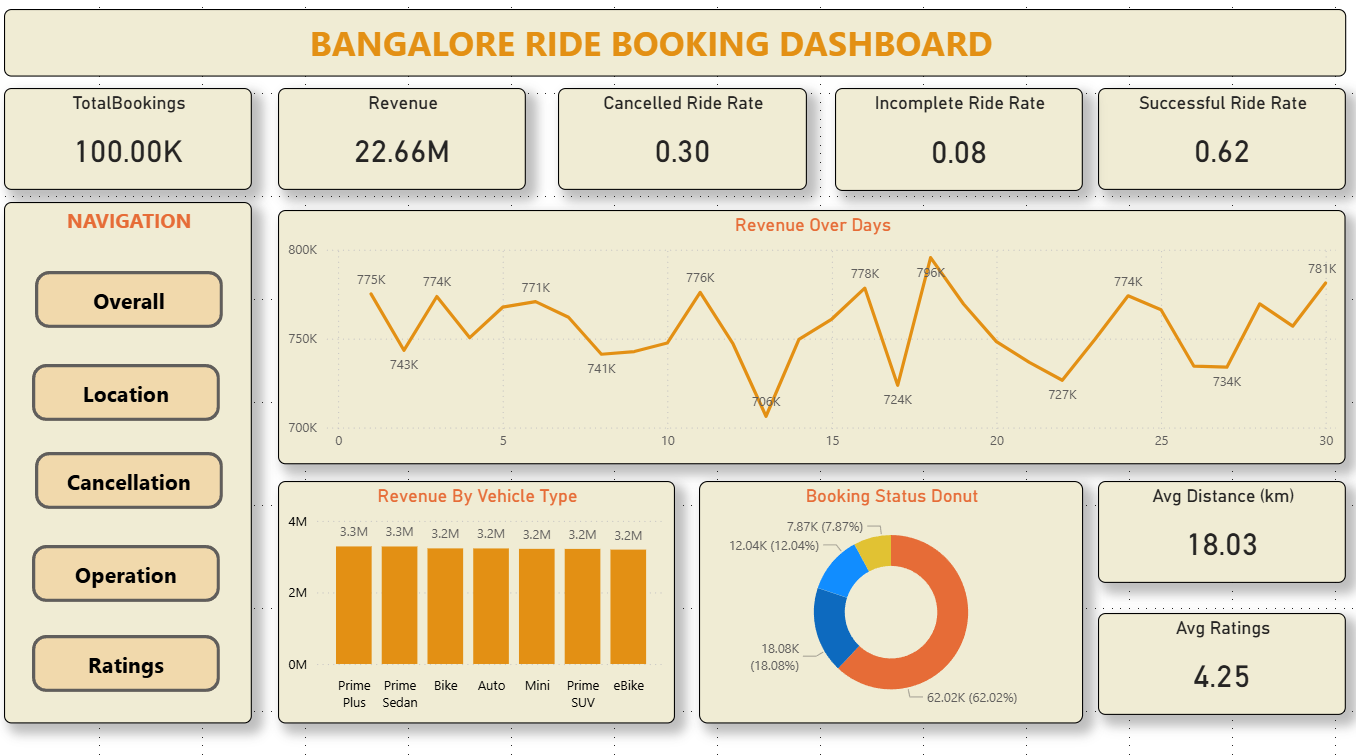

This screenshot's page, from the dashboard's own definition file:
{"tool":"powerbi","page":{"name":"Overall","canvas":[1280,720],"ordinal":0},"visuals":[{"type":"card","title":"Revenue","fields":{"Values":["Sum(Bangalore_Ride_Bookings.Booking Value)"]},"box":[262.8,91.3,231.1,95.1],"z":0},{"type":"card","title":"TotalBookings","fields":{"Values":["Count(Bangalore_Ride_Bookings.Booking ID)"]},"box":[7.5,91.3,231.1,95.1],"z":1000},{"type":"card","title":"Successful Ride Rate","fields":{"Values":["Bangalore_Ride_Bookings.Success Rate %"]},"box":[1027.1,91.3,231.1,95.1],"z":2000},{"type":"card","title":"Incomplete Ride Rate","fields":{"Values":["Bangalore_Ride_Bookings.Incomplete Rate %"]},"box":[782,91.3,231.1,96],"z":3000},{"type":"card","title":"Cancelled Ride Rate","fields":{"Values":["Bangalore_Ride_Bookings.Cancellation Rate %"]},"box":[523.8,91.3,232.1,95.1],"z":4000},{"type":"textbox","box":[7.5,17.7,1250.8,63.4],"z":5000},{"type":"textbox","title":"NAVIGATION","box":[7.5,197.6,231.1,485.6],"z":6000},{"type":"lineChart","title":"Revenue Over Days","fields":{"Y":["Sum(Bangalore_Ride_Bookings.Booking Value)"],"Category":["Bangalore_Ride_Bookings.Date.Variation.Date Hierarchy.Day"]},"box":[262.8,205,995.4,236.7],"z":7000},{"type":"columnChart","title":"Revenue By Vehicle Type","fields":{"Y":["Sum(Bangalore_Ride_Bookings.Booking Value)"],"Category":["Bangalore_Ride_Bookings.Vehicle Type"]},"box":[262.8,457.6,370,225.6],"z":8000},{"type":"donutChart","title":"Booking Status Donut","fields":{"Category":["Bangalore_Ride_Bookings.Booking Status"],"Y":["CountNonNull(Bangalore_Ride_Bookings.Booking ID)"]},"box":[655.2,457.6,357.9,225.6],"z":9000},{"type":"card","title":"Avg Distance (km)","fields":{"Values":["Avg(Bangalore_Ride_Bookings.Ride Distance (km))"]},"box":[1027.1,457.6,231.1,95.1],"z":10000},{"type":"card","title":"Avg Ratings","fields":{"Values":["Avg(Bangalore_Ride_Bookings.Customer Rating)"]},"box":[1027.1,580.7,231.1,95.1],"z":11000},{"type":"actionButton","box":[33.6,348.6,175.2,53.1],"z":12000},{"type":"actionButton","box":[36.3,430.6,175.2,53.1],"z":12001},{"type":"actionButton","box":[33.6,517.3,175.2,53.1],"z":12002},{"type":"actionButton","box":[33.6,601.2,175.2,53.1],"z":12003},{"type":"actionButton","box":[36.3,261.9,175.2,53.1],"z":12004}]}

Visuals, with their boxes in screenshot pixels (x1, y1, x2, y2), scaled from the page's 1280x720 canvas onto the 1356x756 screenshot:
"Revenue" card: 278/96/523/196
"TotalBookings" card: 8/96/253/196
"Successful Ride Rate" card: 1088/96/1333/196
"Incomplete Ride Rate" card: 828/96/1073/197
"Cancelled Ride Rate" card: 555/96/801/196
textbox: 8/19/1333/85
"NAVIGATION" textbox: 8/207/253/717
"Revenue Over Days" lineChart: 278/215/1333/464
"Revenue By Vehicle Type" columnChart: 278/480/670/717
"Booking Status Donut" donutChart: 694/480/1073/717
"Avg Distance (km)" card: 1088/480/1333/580
"Avg Ratings" card: 1088/610/1333/710
actionButton: 36/366/221/422
actionButton: 38/452/224/508
actionButton: 36/543/221/599
actionButton: 36/631/221/687
actionButton: 38/275/224/331
